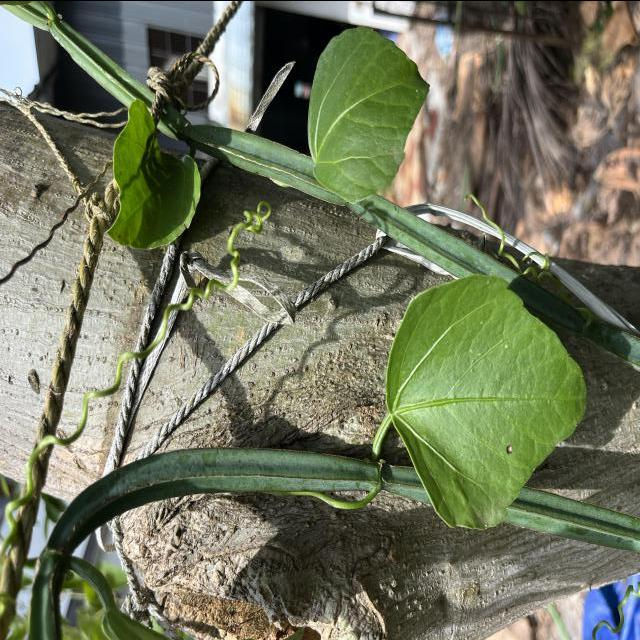Cissus quadrangularis: (384, 270, 590, 532), (305, 22, 432, 207)
